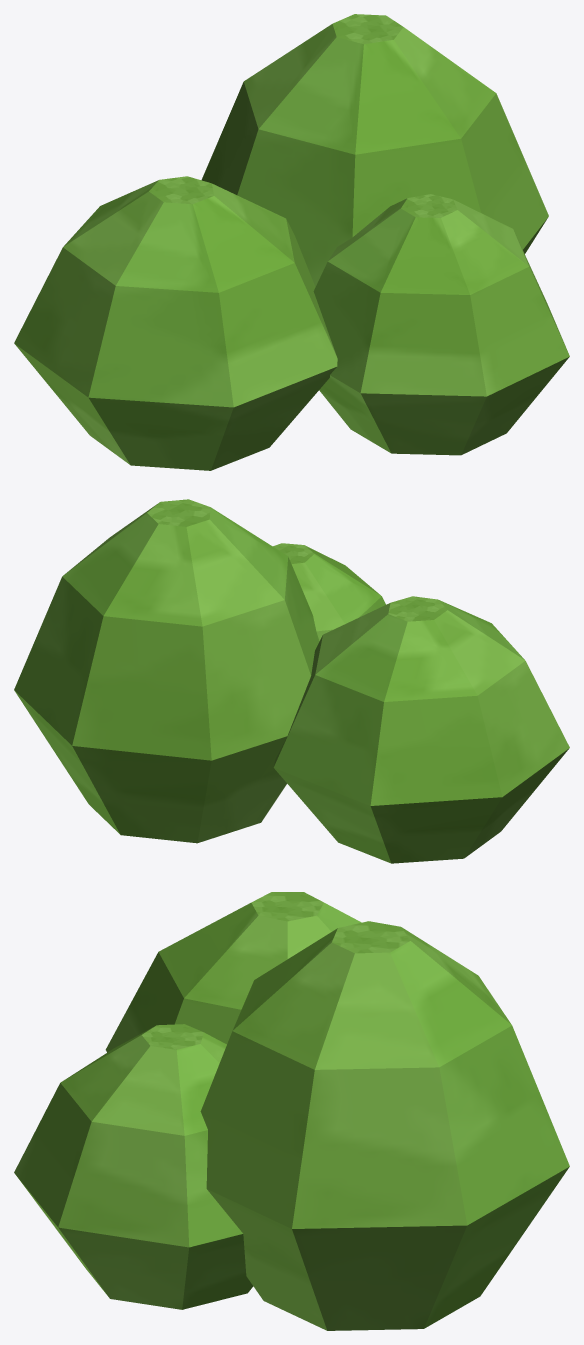
File: town_shrub.glb
3 renders of one model, top to bottom at view 1: azimuth 30°, elevation 25°; view 2: azimuth 150°, elevation 25°; view 3: azimuth 270°, elevation 25°, orthographic. The views are drawn at different scales.
Visible parts, largest first — view 1: beach_town_shrub; view 2: beach_town_shrub; view 3: beach_town_shrub.
Part boxes in pixels (x1,y1,x2,y2): beach_town_shrub: (14, 14, 569, 470); beach_town_shrub: (14, 499, 569, 863); beach_town_shrub: (14, 892, 569, 1330).
Size of the model in its own units: 1.3 by 0.8 by 1.15.
Materials: 1 (1 with a texture image).
